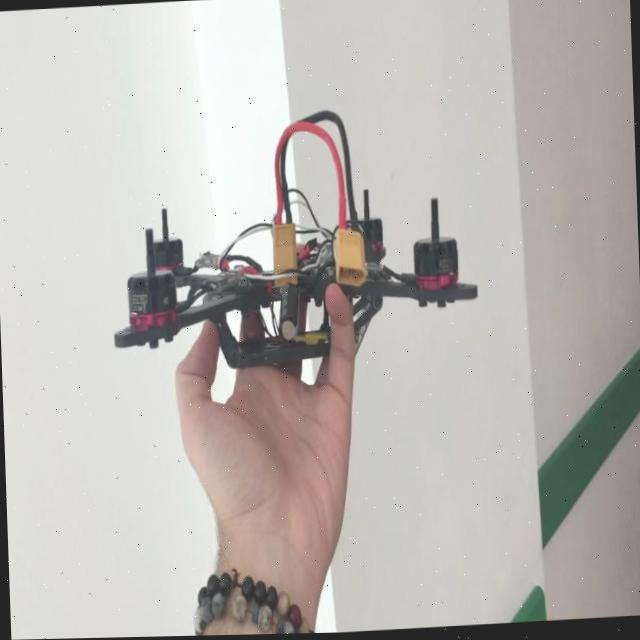drone: (107, 166, 491, 396)
